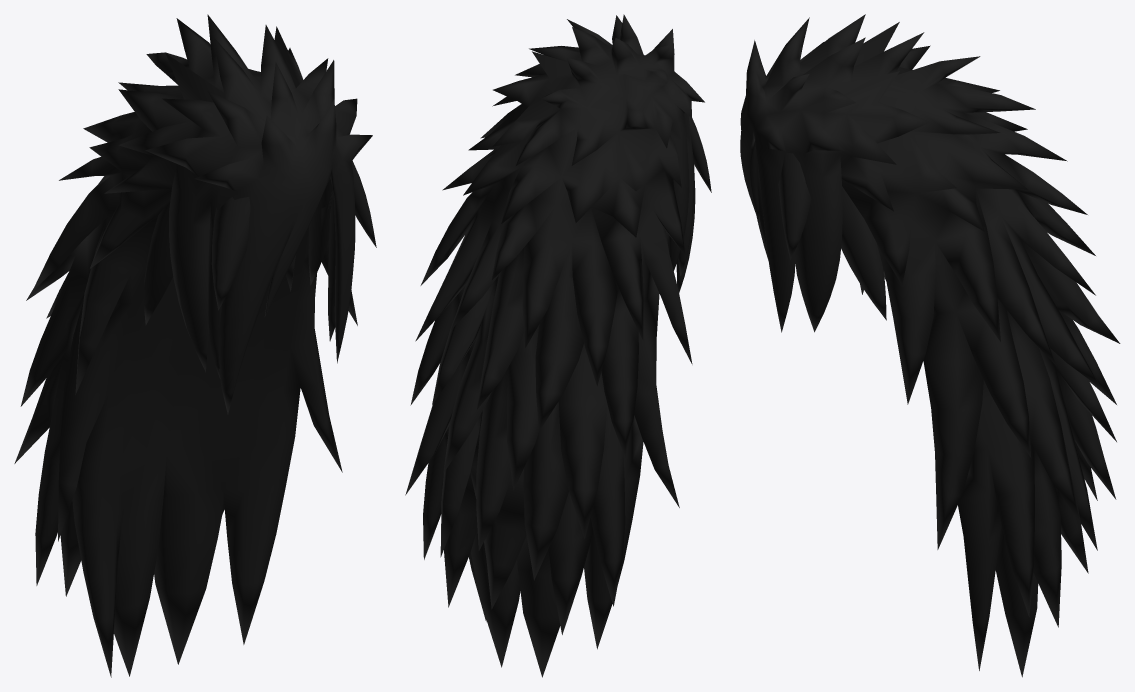
File: hair5.glb
3 views of the same model, side by side, from view 1: azimuth 30°, elevation 25°; view 2: azimuth 150°, elevation 25°; view 3: azimuth 270°, elevation 25° (orthographic). The views are drawn at different scales.
Visible parts, largest first — view 1: Object_2; view 2: Object_2; view 3: Object_2.
Part boxes in pixels (box(x1,y1,x2,y2)): Object_2: box(14, 14, 376, 677); Object_2: box(405, 14, 711, 677); Object_2: box(740, 14, 1120, 677).
Size of the model in its own units: 0.8581 by 2.03 by 1.09.
1 material, 1 textured.
